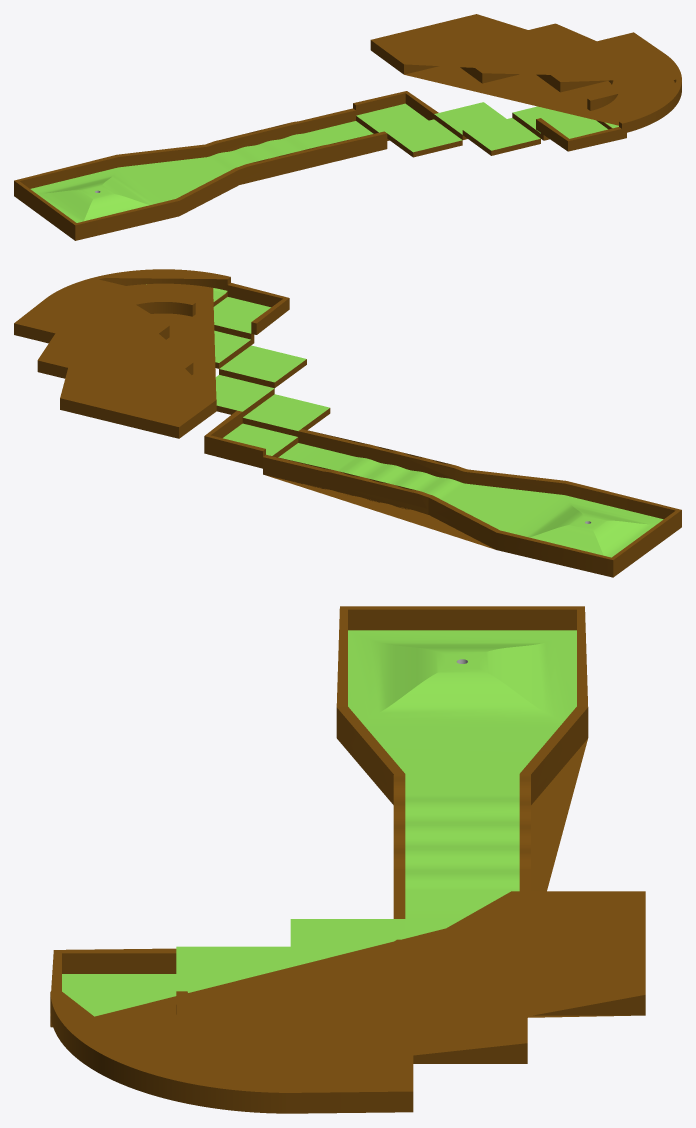
Rendered from hole3.fbx.
The picture shows the model from 3 angles, top to bottom: view 1: azimuth 30°, elevation 25°; view 2: azimuth 150°, elevation 25°; view 3: azimuth 270°, elevation 25°; orthographic projection. The views are drawn at different scales.
Visible parts, largest first — view 1: hole3_plane1_wall, hole3_plane1_green; view 2: hole3_plane1_wall, hole3_plane1_green; view 3: hole3_plane1_wall, hole3_plane1_green.
Boxes of the visible parts, x1,y1,x2,y2 form: hole3_plane1_wall: (14,14,681,240); hole3_plane1_green: (30,102,618,222); hole3_plane1_wall: (14,269,681,577); hole3_plane1_green: (146,284,663,557); hole3_plane1_wall: (50,606,645,1113); hole3_plane1_green: (62,630,576,1016).
Size of the model in its own units: 1167 by 105 by 520.
